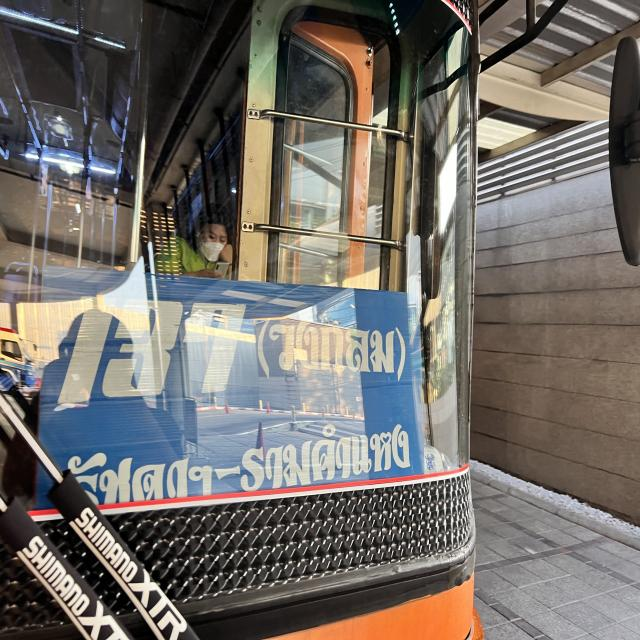BMTA-bus: (0, 0, 490, 640)
Destination-Sign-Normal: (42, 270, 423, 515)
